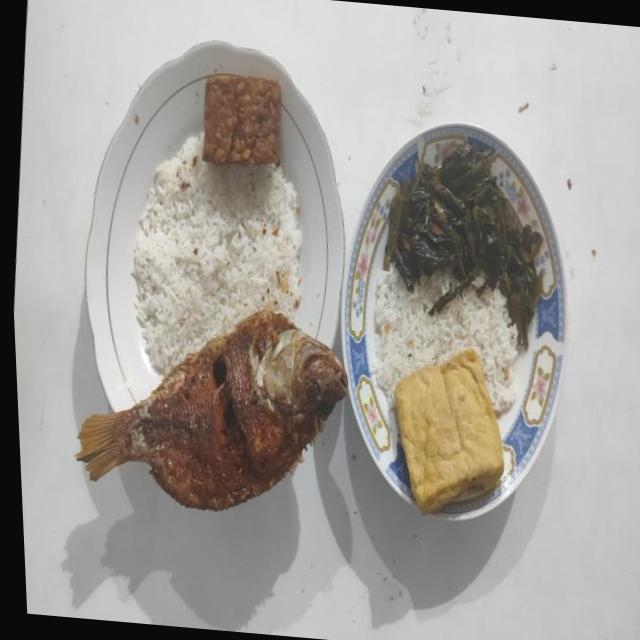ikan_mujair: (75, 310, 347, 510)
nasi_putih: (130, 132, 302, 375), (373, 268, 516, 414)
tahu_goreng: (394, 348, 503, 514)
tempe_goreng: (202, 74, 280, 164)
tumis_kangkung: (382, 136, 542, 350)
